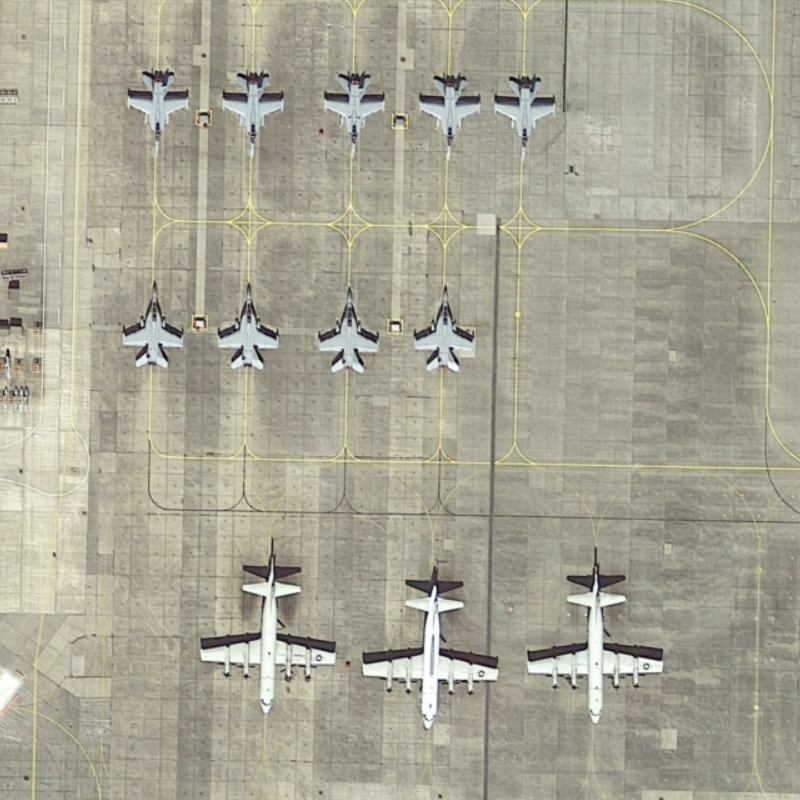A16: (118, 60, 198, 163), (210, 274, 287, 379), (216, 63, 291, 166), (413, 65, 487, 166), (117, 272, 189, 375), (318, 64, 389, 168), (312, 278, 385, 378), (408, 276, 480, 377), (489, 68, 560, 169)
A9: (188, 550, 343, 722), (523, 558, 674, 729), (355, 569, 505, 734)
